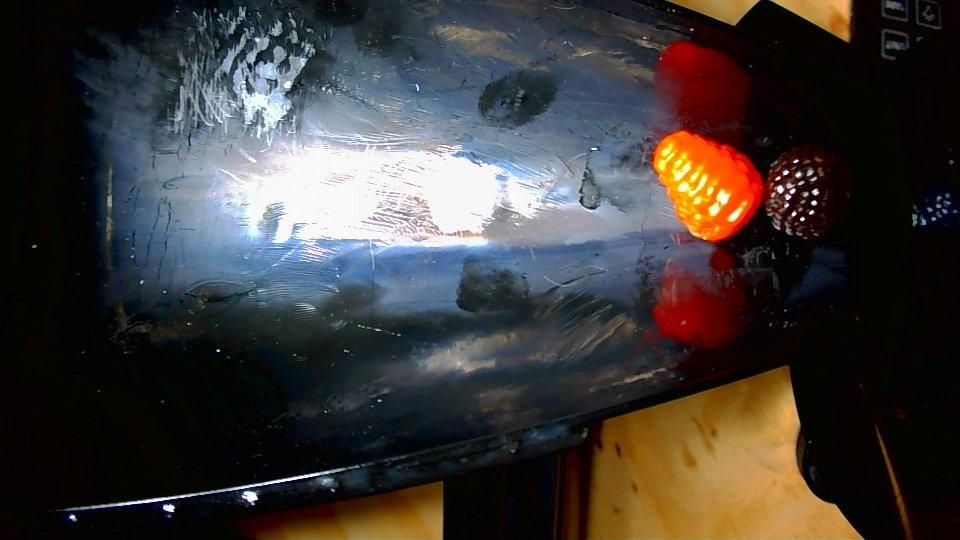berry: (653, 130, 763, 241), (763, 145, 851, 239), (912, 185, 959, 228)
